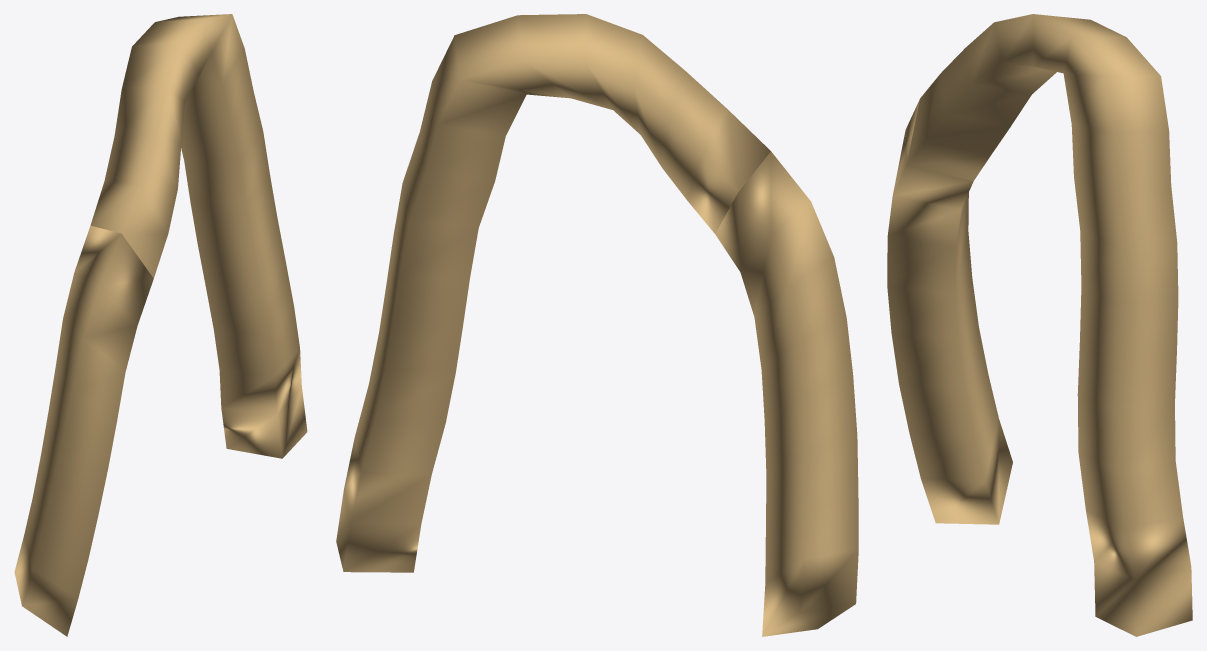
File: Arch3.fbx
The picture shows the model from 3 angles, left to right: view 1: azimuth 30°, elevation 25°; view 2: azimuth 150°, elevation 25°; view 3: azimuth 270°, elevation 25°; orthographic projection. The views are drawn at different scales.
Visible parts, largest first — view 1: default; view 2: default; view 3: default.
Part boxes in pixels (x1=…): default: x1=14, y1=14, x2=307, y2=636; default: x1=336, y1=14, x2=858, y2=636; default: x1=887, y1=14, x2=1192, y2=636.
Size of the model in its own units: 15.13 by 20.68 by 9.58.
